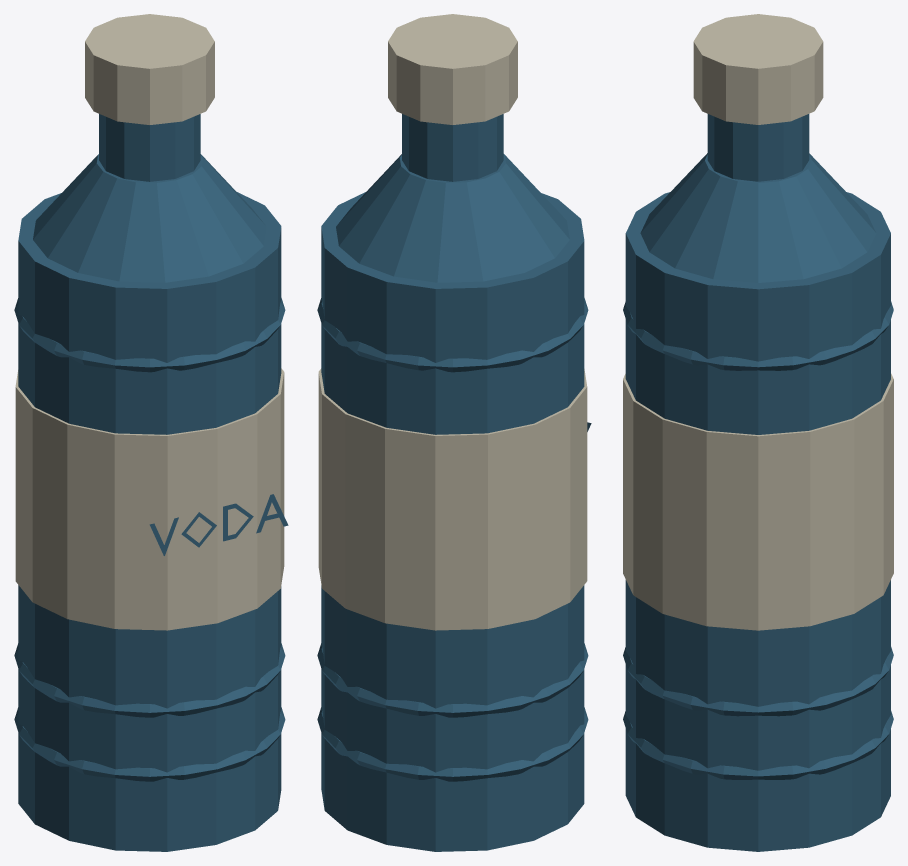
The model's file is loot_water.glb.
3 renders of one model, left to right at view 1: azimuth 30°, elevation 25°; view 2: azimuth 150°, elevation 25°; view 3: azimuth 270°, elevation 25°, orthographic.
Visible parts, largest first — view 1: loot_water; view 2: loot_water; view 3: loot_water.
Part boxes in pixels (box(x1,y1,x2,y2)): loot_water: box(14, 14, 288, 851); loot_water: box(317, 14, 591, 851); loot_water: box(623, 14, 893, 851).
Bounding box in the file's own units: 0.096 × 0.295 × 0.097.
